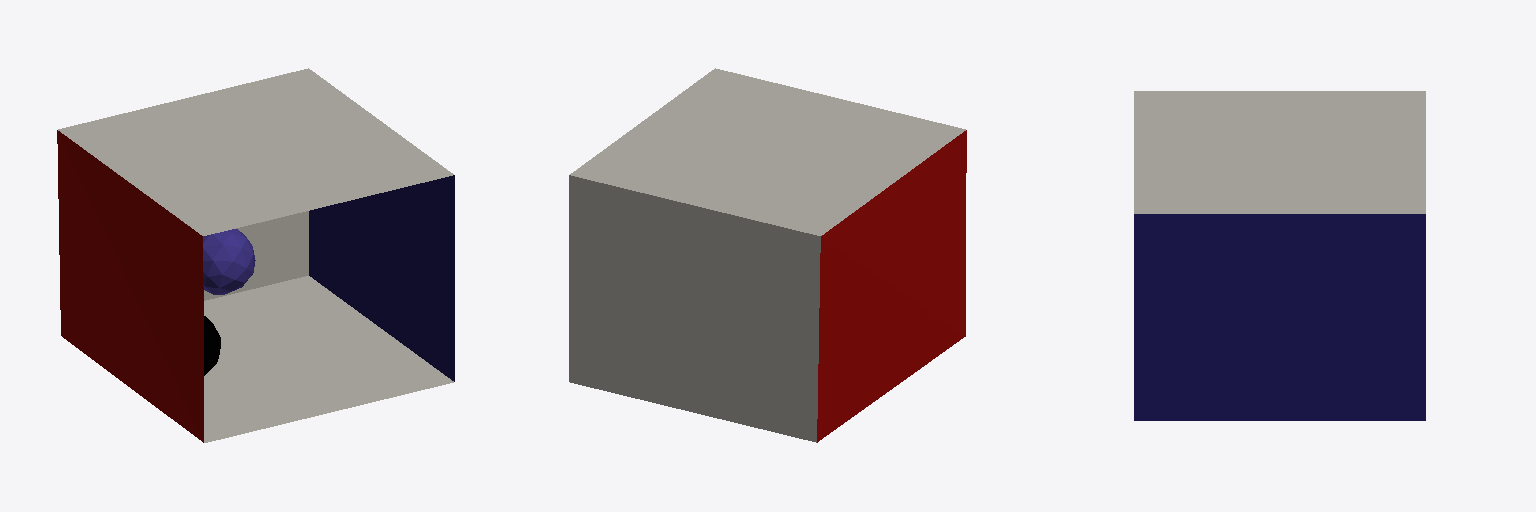
File: CornellBox-Sphere-998.obj
The picture shows the model from 3 angles: view 1: azimuth 30°, elevation 25°; view 2: azimuth 150°, elevation 25°; view 3: azimuth 270°, elevation 25°; orthographic projection.
Parts seen in each view (by area): view 1: ceiling, leftWall, floor, rightWall, backWall, leftSphere, rightSphere; view 2: backWall, ceiling, leftWall; view 3: rightWall, ceiling.
Part boxes in pixels (x1,y1,x2,y2): ceiling: (58, 68, 453, 235); leftWall: (57, 130, 203, 442); floor: (204, 276, 453, 442); rightWall: (309, 175, 454, 381); backWall: (204, 211, 308, 300); leftSphere: (203, 229, 255, 294); rightSphere: (204, 316, 220, 375); backWall: (569, 175, 820, 442); ceiling: (570, 68, 965, 235); leftWall: (817, 130, 966, 442); rightWall: (1134, 214, 1425, 420); ceiling: (1134, 91, 1425, 213).
Bounding box in the file's own units: 2.02 × 1.59 × 2.03.